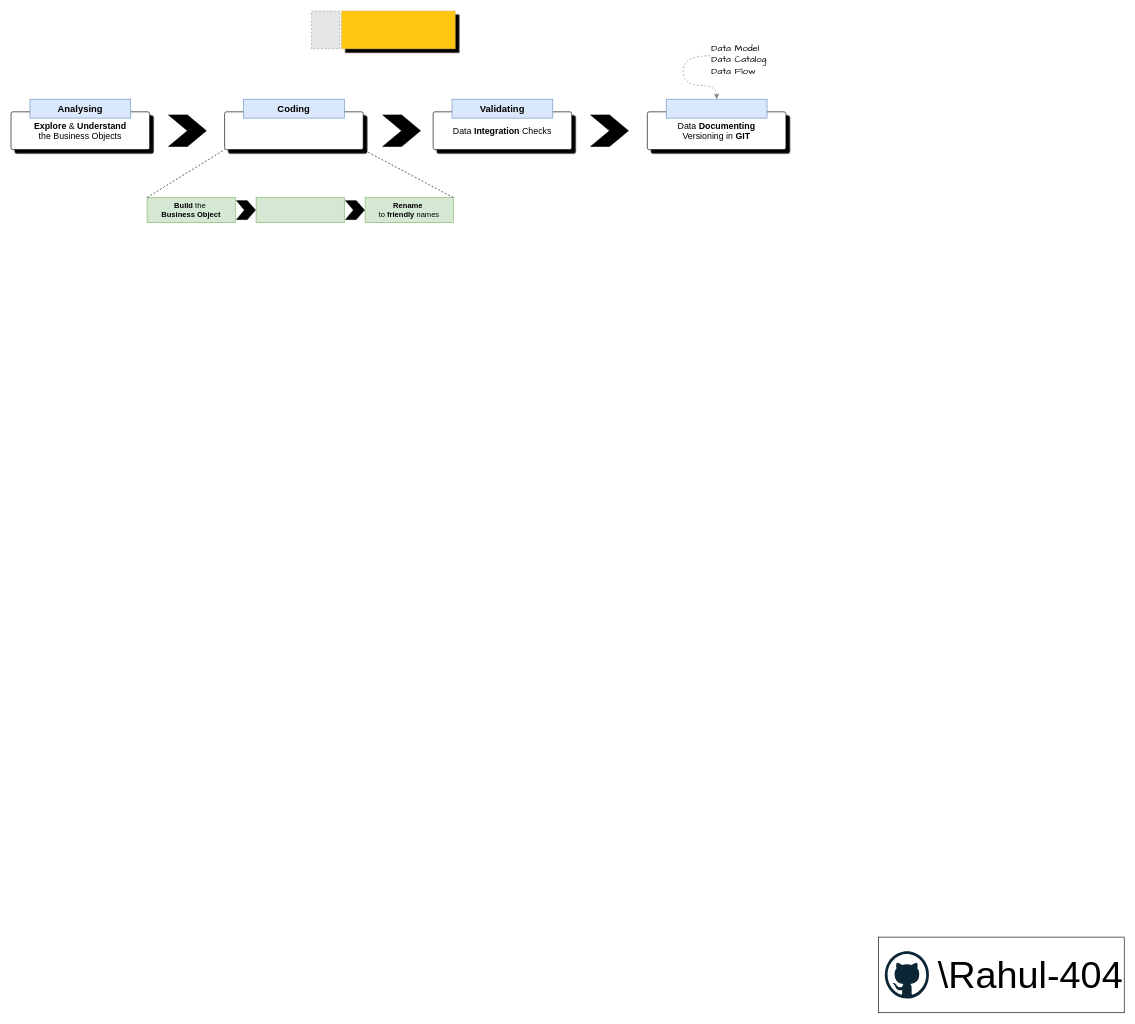
Some shapes in this 1135 by 1024 pixel diagram are drawn without their labels. Grey dashed boxes stand in for pictures. Here are the shapes that lost their labels. From the top down, the centre of each, then its label:
At (400,31): "Gold Layer".
At (716,108): "Docs & Version".
At (295,132): "Data Integration".
At (299,210): "Choose Type Dimension vs Fact".
